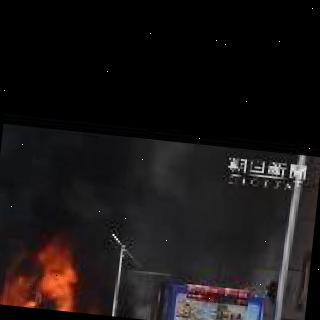fire: (0, 123, 305, 316), (0, 237, 170, 320)
